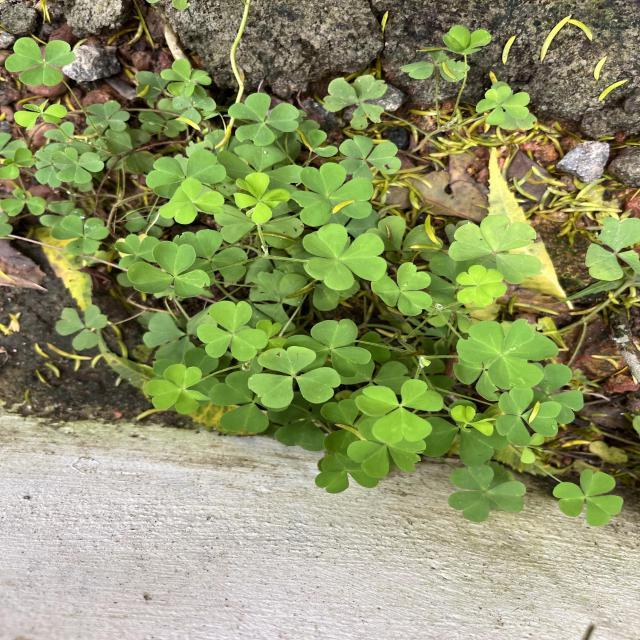Oxalis corniculata: (455, 318, 559, 391), (448, 214, 542, 284), (298, 222, 388, 291), (246, 346, 342, 410), (352, 378, 444, 444), (288, 162, 375, 227), (442, 464, 528, 524), (126, 240, 212, 298), (196, 300, 270, 362), (552, 468, 624, 528), (490, 387, 562, 447), (227, 91, 300, 148), (4, 36, 76, 88), (369, 261, 434, 317), (144, 363, 212, 415), (157, 178, 225, 225), (232, 172, 292, 224), (48, 213, 110, 256), (453, 264, 508, 308), (50, 146, 106, 184)
